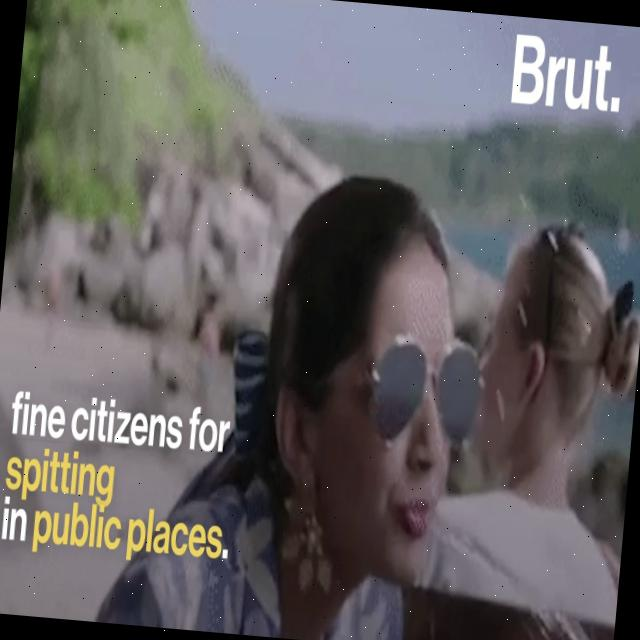spit: (272, 200, 622, 640)
